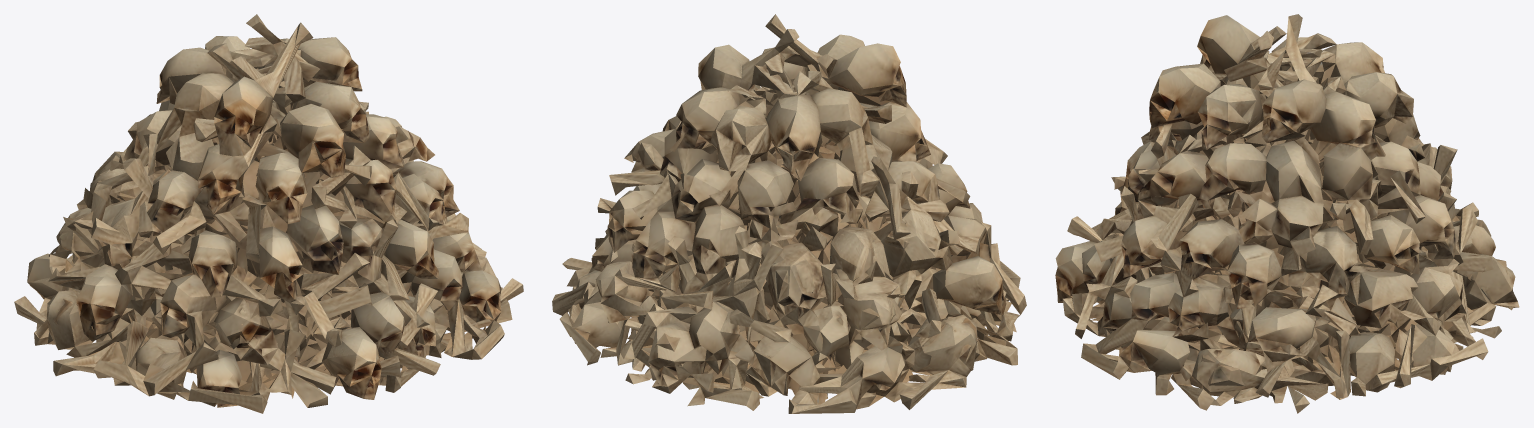
Rendered from bone_pile.glb.
3 renders of one model, left to right at view 1: azimuth 30°, elevation 25°; view 2: azimuth 150°, elevation 25°; view 3: azimuth 270°, elevation 25°, orthographic.
Size of the model in its own units: 1.89 by 1.23 by 1.75.
Materials: 1 (1 with a texture image).
